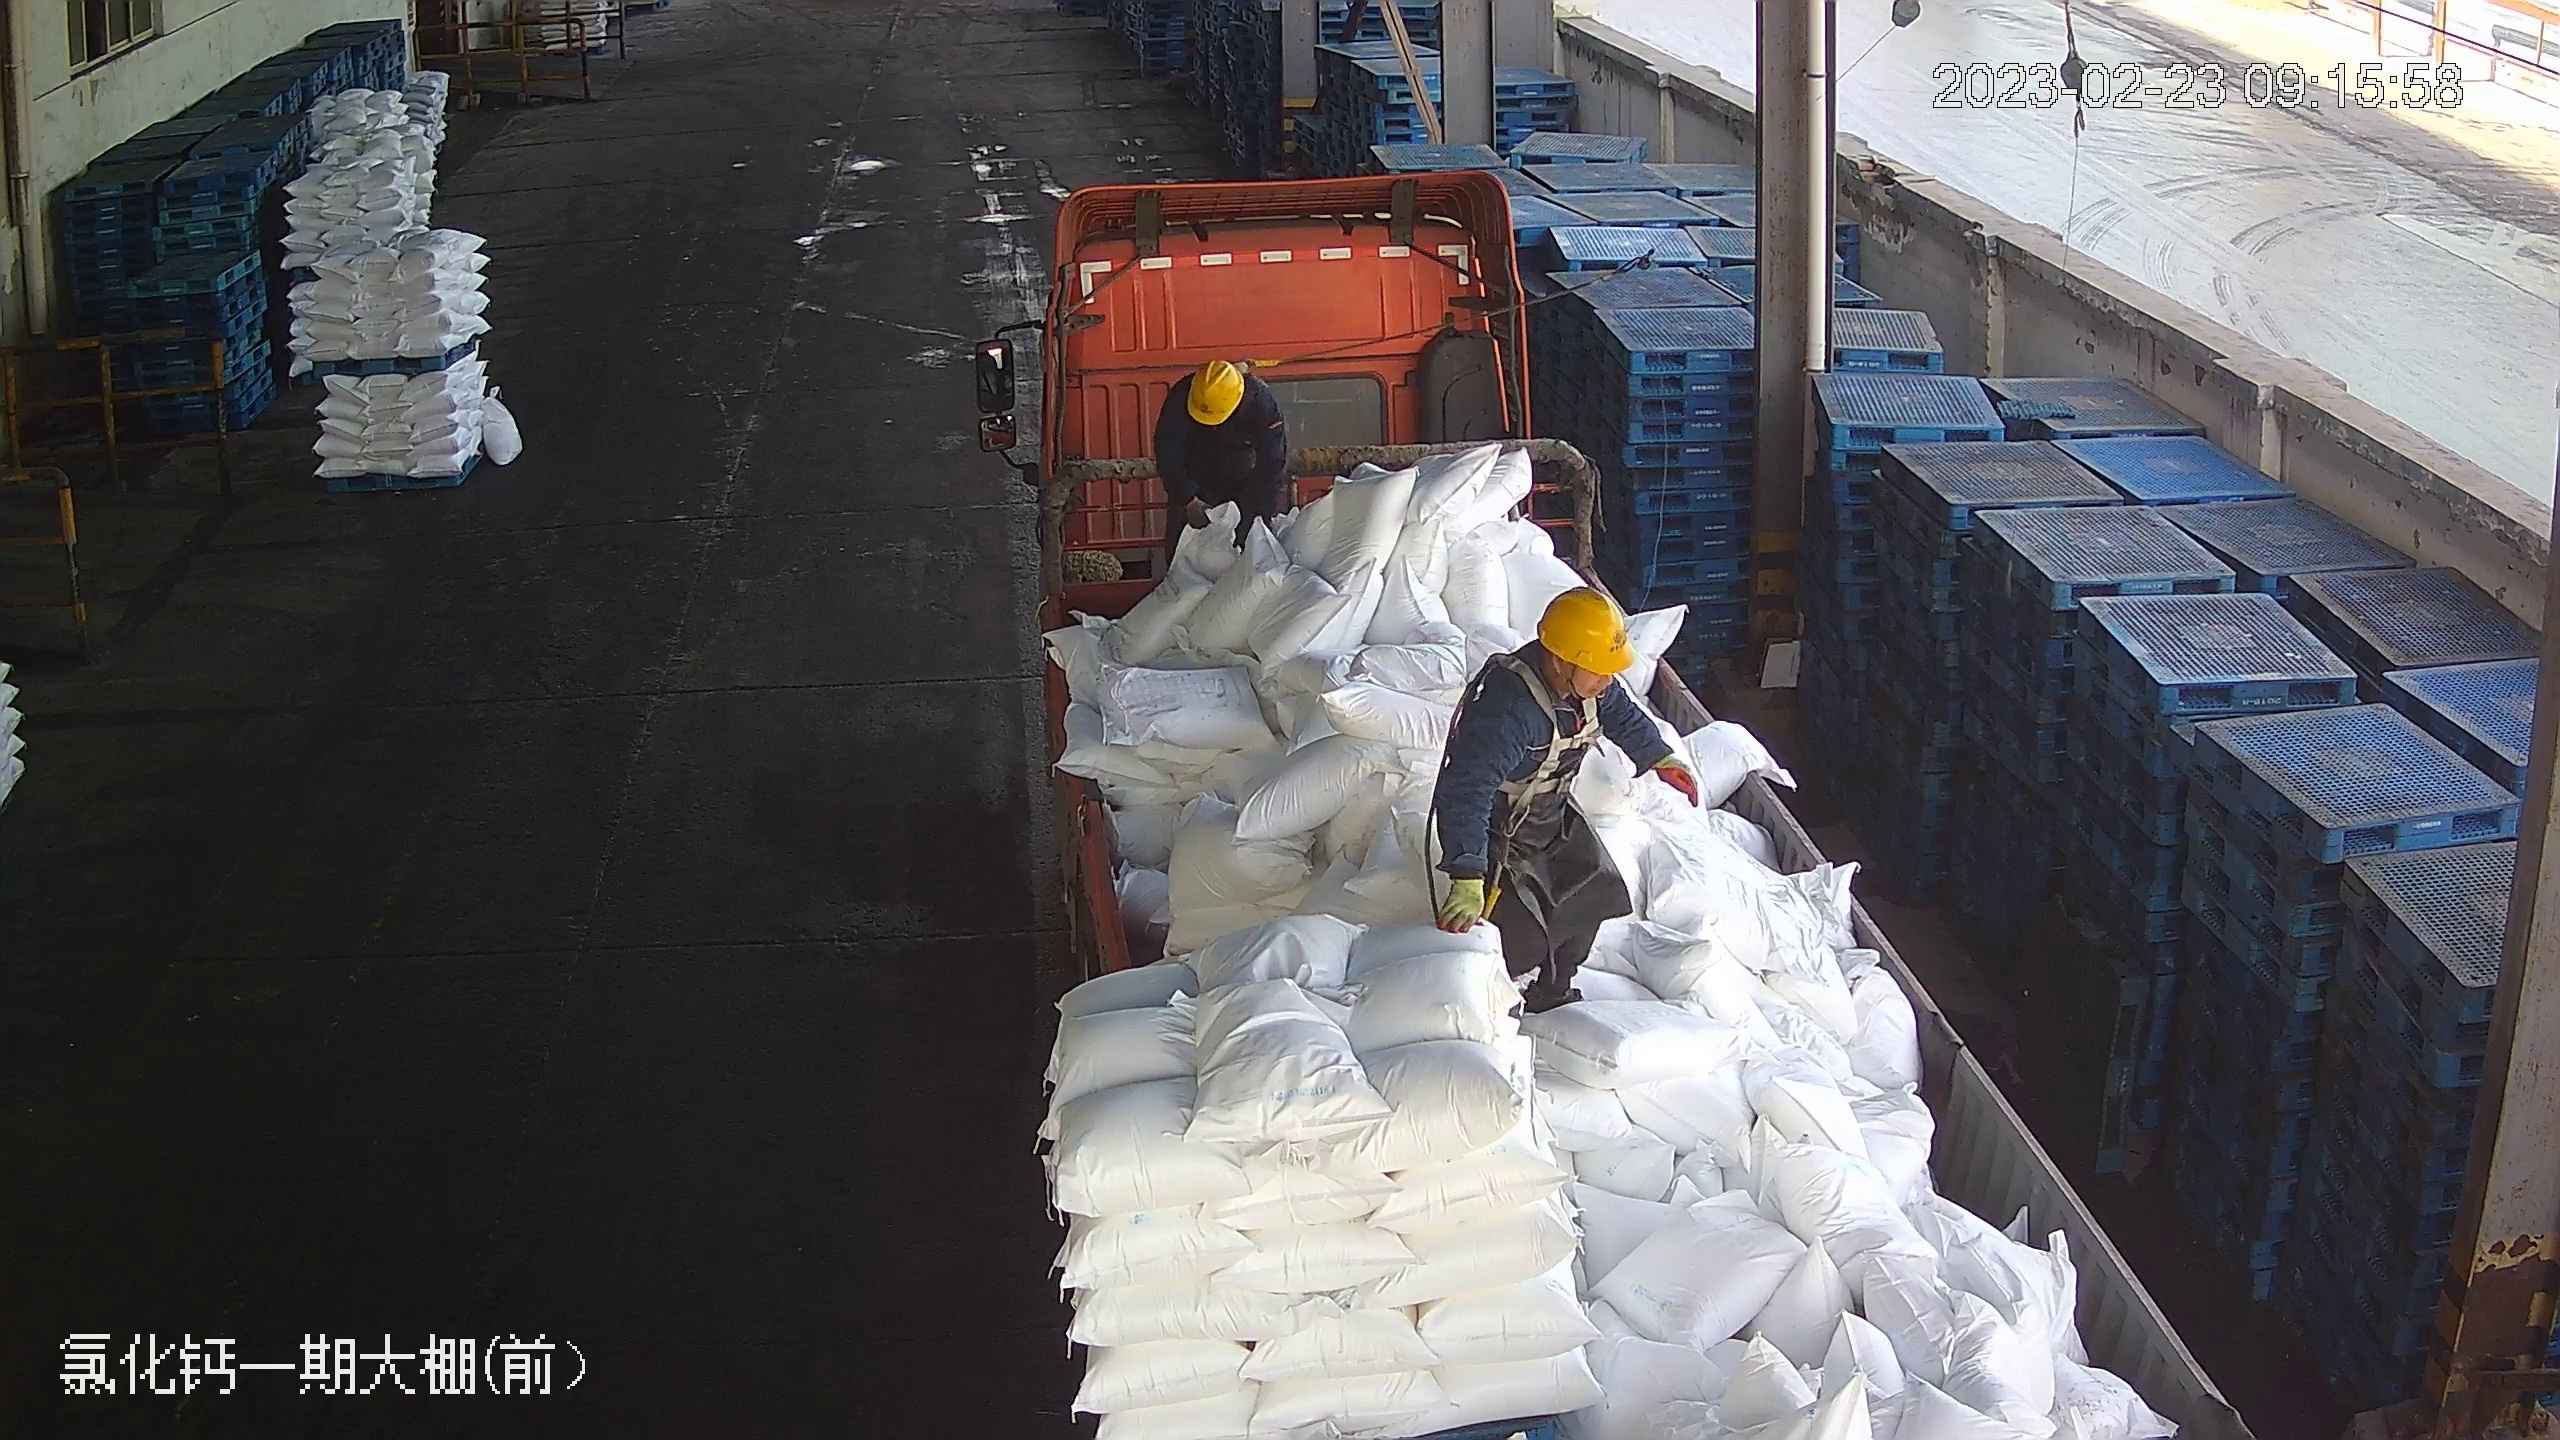belt: (1491, 667, 1606, 796), (1226, 341, 1293, 396)
head: (1465, 586, 1641, 764), (1170, 356, 1272, 436)
helmet: (1536, 585, 1633, 672), (1186, 356, 1249, 428)
people: (1435, 588, 1706, 1027), (1148, 350, 1299, 570)
truck: (970, 150, 2272, 1440)
